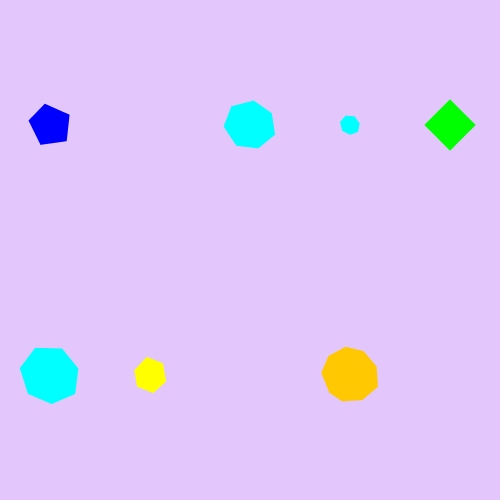heptagon: (17, 344, 83, 407), (221, 98, 279, 153), (336, 111, 365, 139)
hexagon: (128, 357, 172, 394)
nonagon: (318, 345, 382, 406)
pentagon: (26, 101, 75, 150)
quadrilateral: (422, 97, 479, 154)
